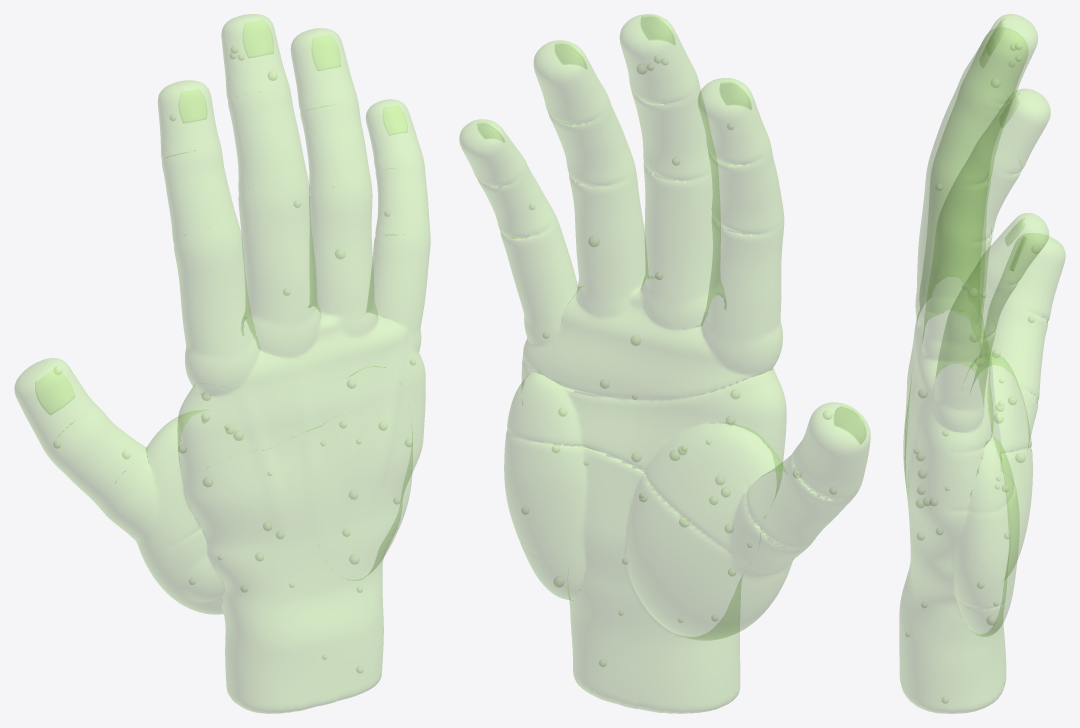
File: family-21.glb
3 renders of one model, left to right at view 1: azimuth 30°, elevation 25°; view 2: azimuth 150°, elevation 25°; view 3: azimuth 270°, elevation 25°, orthographic. The views are drawn at different scales.
Visible parts, largest first — view 1: jelly_fingers__fingers_sculpt, jelly_back_of_hand__back_of_hand_sculpt, jelly_fingertips__fingertips_sculpt, jelly_wrist__wrist_sculpt, jelly_palm__palm_sculpt, jelly_nails__thumb_claw, jelly_nails__middle_claw, jelly_nails__ring_claw, jelly_nails__index_claw; view 2: jelly_fingers__fingers_sculpt, jelly_palm__palm_sculpt, jelly_fingertips__fingertips_sculpt, jelly_wrist__wrist_sculpt, jelly_nails__thumb_claw, back_of_hand, jelly_nails__middle_claw, palm; view 3: jelly_fingers__fingers_sculpt, jelly_palm__palm_sculpt, jelly_fingertips__fingertips_sculpt, jelly_wrist__wrist_sculpt, jelly_back_of_hand__back_of_hand_sculpt, back_of_hand, palm, jelly_nails__middle_claw, jelly_nails__ring_claw.
Part boxes in pixels (box(x1,y1,x2,y2)): jelly_fingers__fingers_sculpt: box(43, 79, 430, 590); jelly_back_of_hand__back_of_hand_sculpt: box(181, 353, 425, 606); jelly_fingertips__fingertips_sculpt: box(14, 14, 421, 449); jelly_wrist__wrist_sculpt: box(175, 556, 384, 713); jelly_palm__palm_sculpt: box(164, 366, 412, 601); jelly_nails__thumb_claw: box(35, 369, 74, 414); jelly_nails__middle_claw: box(242, 20, 273, 57); jelly_nails__ring_claw: box(311, 35, 340, 70); jelly_nails__index_claw: box(178, 89, 206, 123); jelly_fingers__fingers_sculpt: box(475, 69, 861, 616); jelly_palm__palm_sculpt: box(504, 337, 782, 625); jelly_fingertips__fingertips_sculpt: box(459, 14, 870, 493); jelly_wrist__wrist_sculpt: box(534, 571, 750, 713); jelly_nails__thumb_claw: box(834, 406, 866, 444); back_of_hand: box(543, 332, 751, 576); jelly_nails__middle_claw: box(640, 15, 675, 44); palm: box(521, 389, 740, 527); jelly_fingers__fingers_sculpt: box(910, 67, 1050, 489); jelly_palm__palm_sculpt: box(952, 339, 1031, 626); jelly_fingertips__fingertips_sculpt: box(964, 14, 1065, 311); jelly_wrist__wrist_sculpt: box(899, 564, 1015, 713); jelly_back_of_hand__back_of_hand_sculpt: box(903, 363, 955, 612); back_of_hand: box(914, 389, 949, 540); palm: box(977, 378, 1025, 588); jelly_nails__middle_claw: box(985, 18, 1004, 55); jelly_nails__ring_claw: box(999, 92, 1019, 127).
Size of the model in its own units: 0.1341 by 0.2193 by 0.0505.
